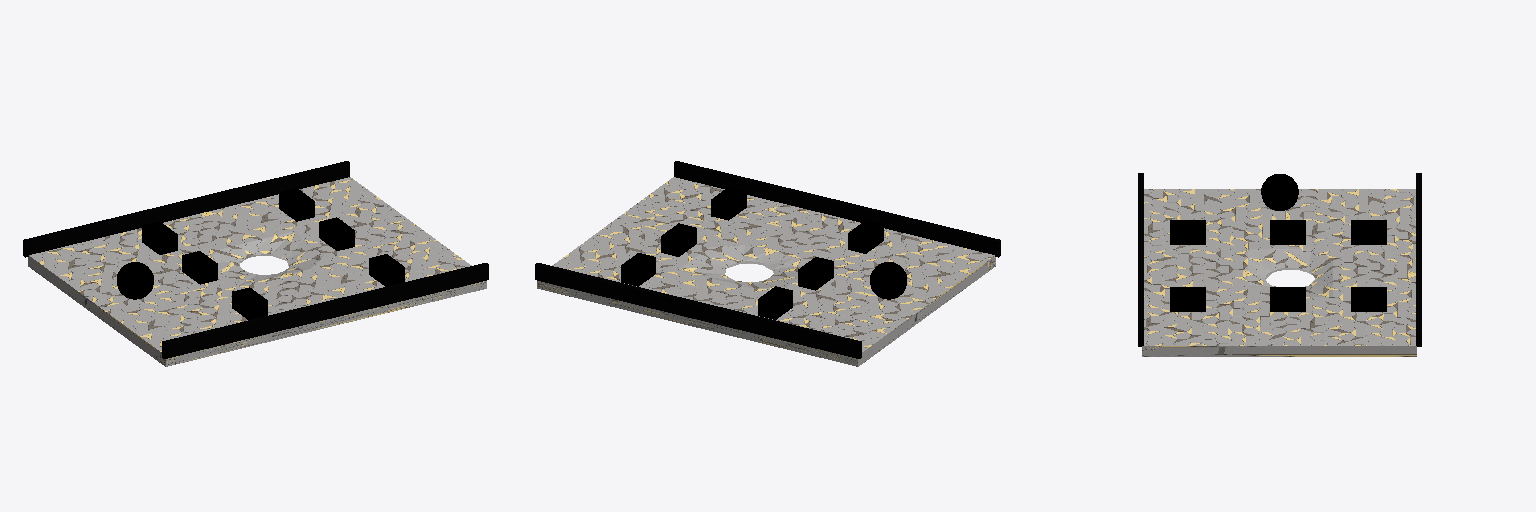
3 views of the same model, side by side, from view 1: azimuth 30°, elevation 25°; view 2: azimuth 150°, elevation 25°; view 3: azimuth 270°, elevation 25° (orthographic).
Visible parts, largest first — view 1: mesa2 pCube11, mesa2 pCube62, Pelota_m2, mesa2 pCube52, mesa2 pCube49, pCube53 mesa2, mesa2 pCube22, mesa2 pCube51, mesa2 pCube50; view 2: mesa2 pCube11, mesa2 pCube62, Pelota_m2, mesa2 pCube22, mesa2 pCube50, mesa2 pCube51, mesa2 pCube52, pCube53 mesa2, mesa2 pCube49; view 3: mesa2 pCube11, mesa2 pCube62, Pelota_m2, pCube53 mesa2, mesa2 pCube52, mesa2 pCube51, mesa2 pCube50, mesa2 pCube22, mesa2 pCube49.
Part boxes in pixels (x1,y1,x2,y2): mesa2 pCube11: (28, 177, 486, 366); mesa2 pCube62: (23, 161, 488, 358); Pelota_m2: (117, 262, 153, 299); mesa2 pCube52: (319, 217, 354, 250); mesa2 pCube49: (142, 221, 177, 254); pCube53 mesa2: (279, 188, 314, 221); mesa2 pCube22: (182, 251, 217, 284); mesa2 pCube51: (369, 254, 404, 286); mesa2 pCube50: (232, 287, 267, 319); mesa2 pCube11: (537, 177, 995, 366); mesa2 pCube62: (535, 161, 1000, 358); Pelota_m2: (870, 262, 906, 299); mesa2 pCube22: (798, 257, 833, 290); mesa2 pCube50: (848, 220, 883, 253); mesa2 pCube51: (711, 187, 746, 220); mesa2 pCube52: (661, 223, 696, 256); pCube53 mesa2: (621, 253, 655, 286); mesa2 pCube49: (758, 286, 792, 319); mesa2 pCube11: (1142, 189, 1416, 356); mesa2 pCube62: (1138, 173, 1421, 346); Pelota_m2: (1261, 174, 1298, 210); pCube53 mesa2: (1351, 287, 1386, 311); mesa2 pCube52: (1270, 287, 1305, 311); mesa2 pCube51: (1170, 287, 1205, 311); mesa2 pCube50: (1170, 220, 1205, 244); mesa2 pCube22: (1270, 220, 1305, 244); mesa2 pCube49: (1351, 220, 1386, 244).
Size of the model in its own units: 19.91 by 2.56 by 15.03.
4 materials, 1 textured.